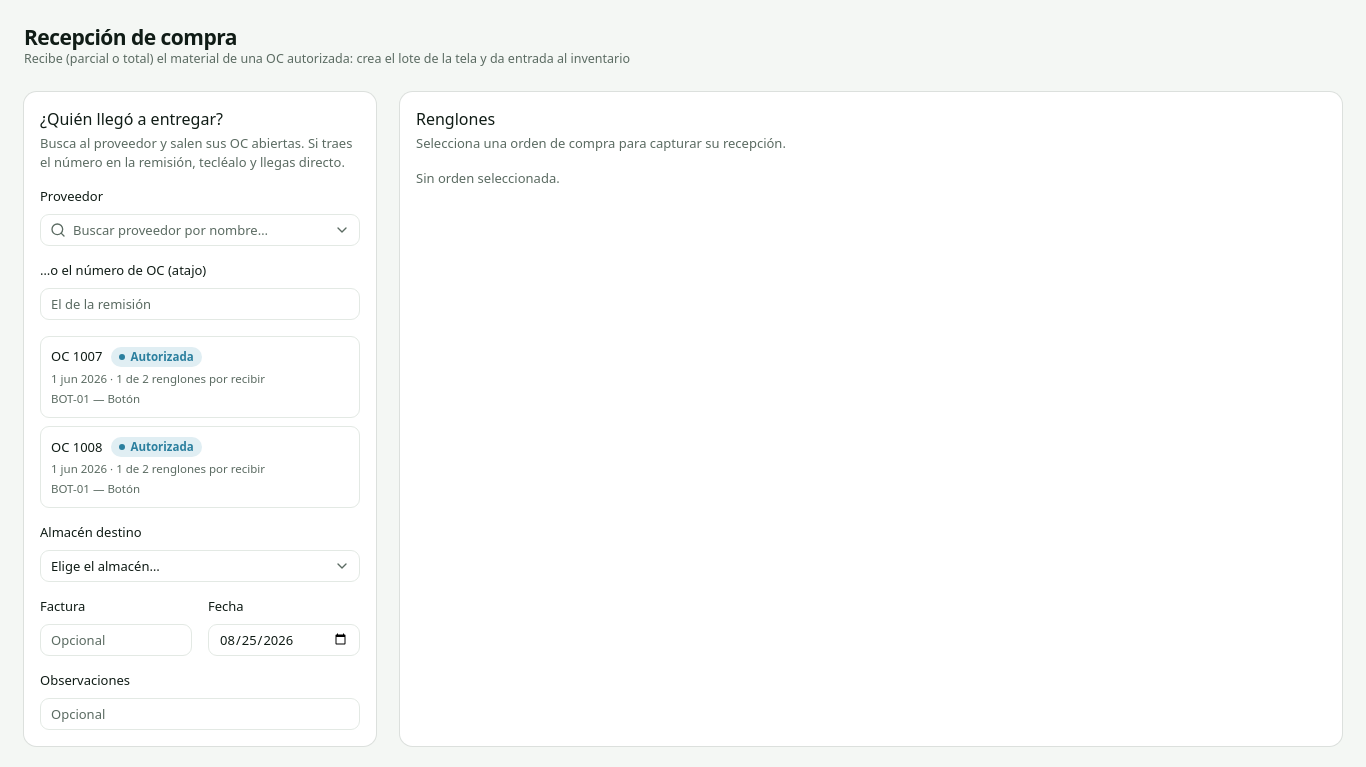
RecepcionComprasPagina (F4-E3) › §Post-F9.14: la tela NO se recibe aquí — el renglón se ve pero no se puede marcar
Click the button with test id "rec-oc-7". click: (200, 377)
box: top-left (40, 336), bottom-right (360, 418)
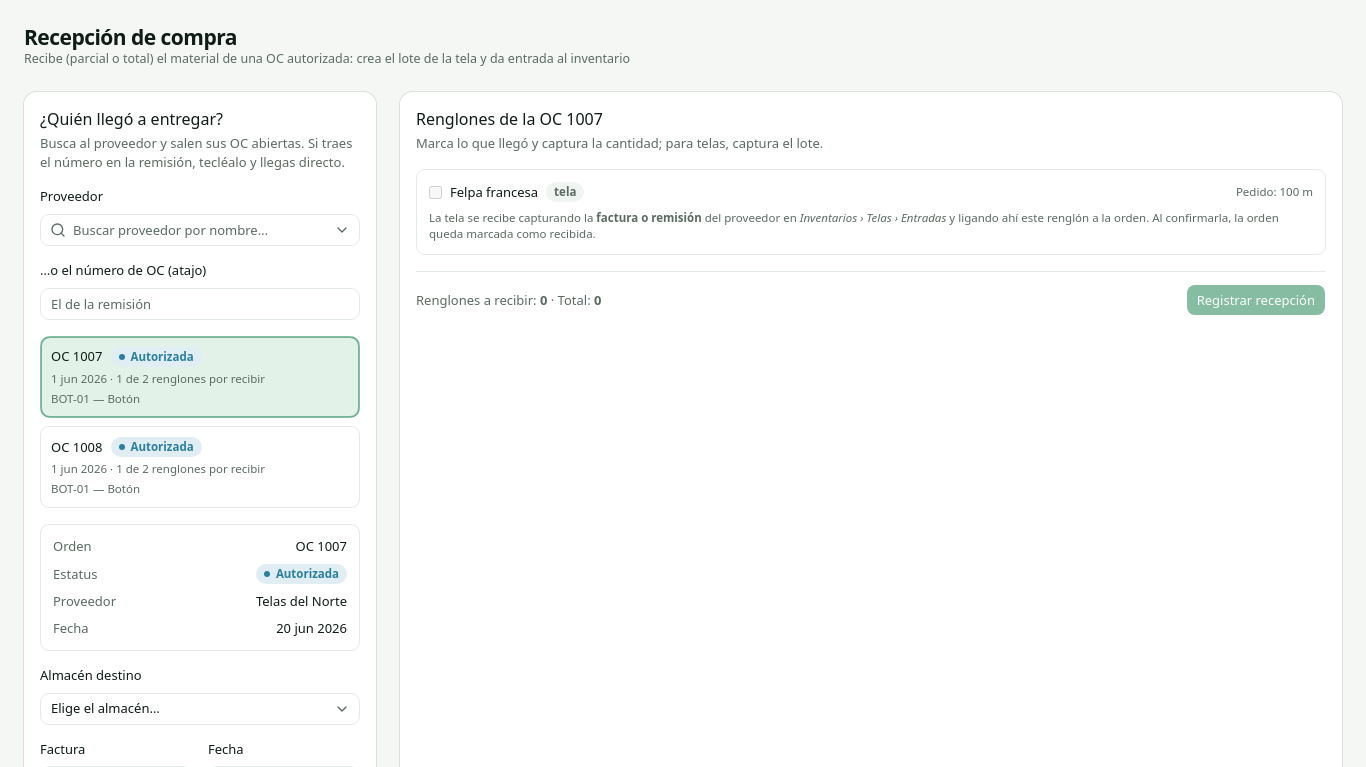
Expected: the checkbox with test id "rec-incluir-10" is disabled, top-left (429, 186), bottom-right (442, 199)
Expected: the element with test id "rec-tela-por-factura-10" shows "factura o remisión", top-left (596, 210), bottom-right (702, 225)
